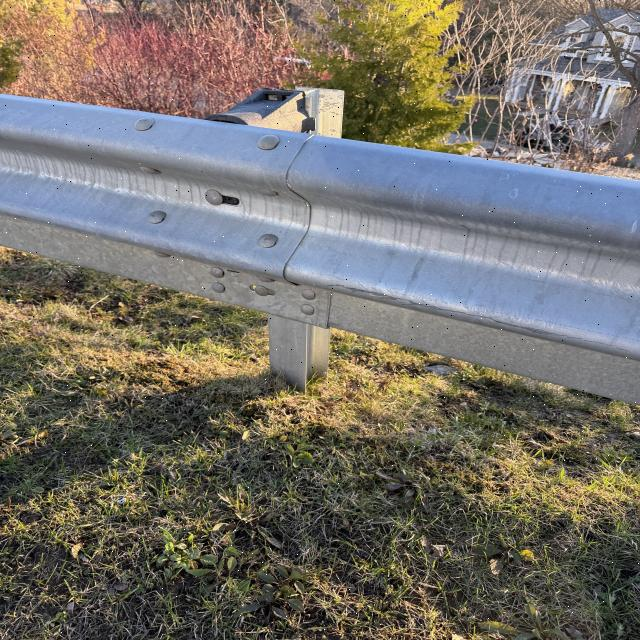Guard rail: (267, 152, 636, 385)
